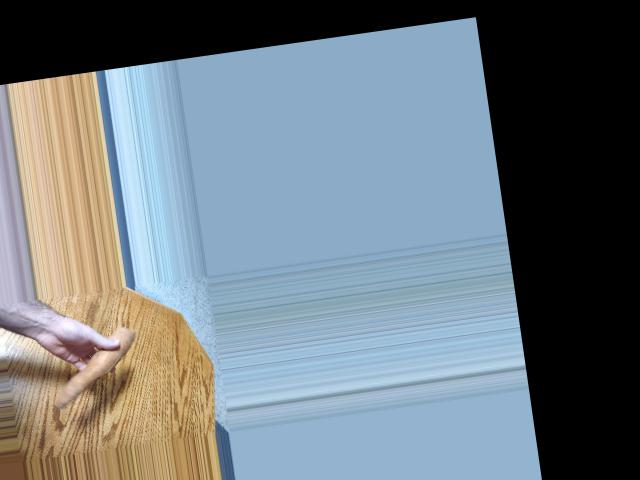sweet_potato: (46, 325, 136, 406)
